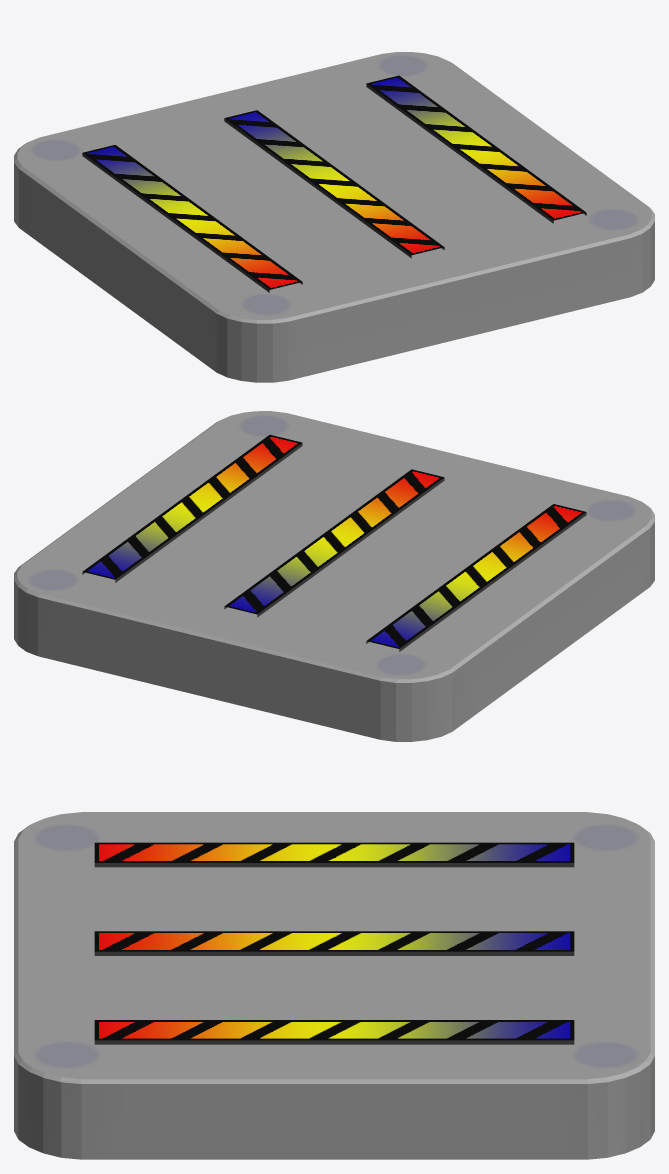
The model's file is obj_interactive_mixerSwitch_off.obj.
3 renders of one model, top to bottom at view 1: azimuth 30°, elevation 25°; view 2: azimuth 150°, elevation 25°; view 3: azimuth 270°, elevation 25°, orthographic. The views are drawn at different scales.
Visible parts, largest first — view 1: Куб; view 2: Куб; view 3: Куб.
Part boxes in pixels (box(x1,y1,x2,y2)): Куб: box(14, 52, 654, 382); Куб: box(14, 411, 654, 741); Куб: box(14, 812, 654, 1159).
Bounding box in the file's own units: 1 × 0.2528 × 1.
